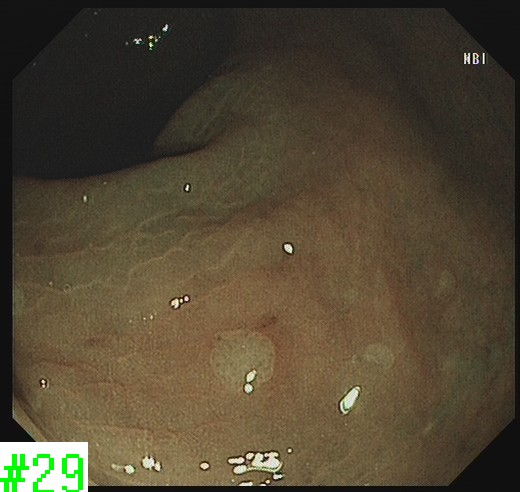others: (206, 326, 278, 397)
